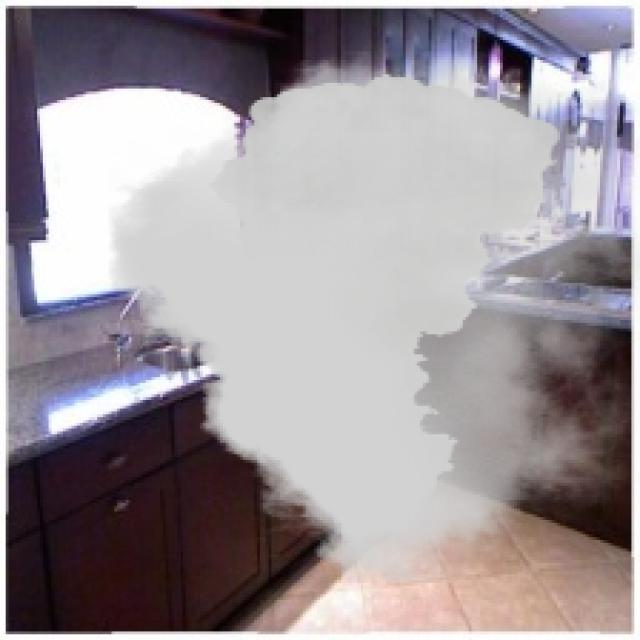Smoke: (108, 51, 638, 586)
